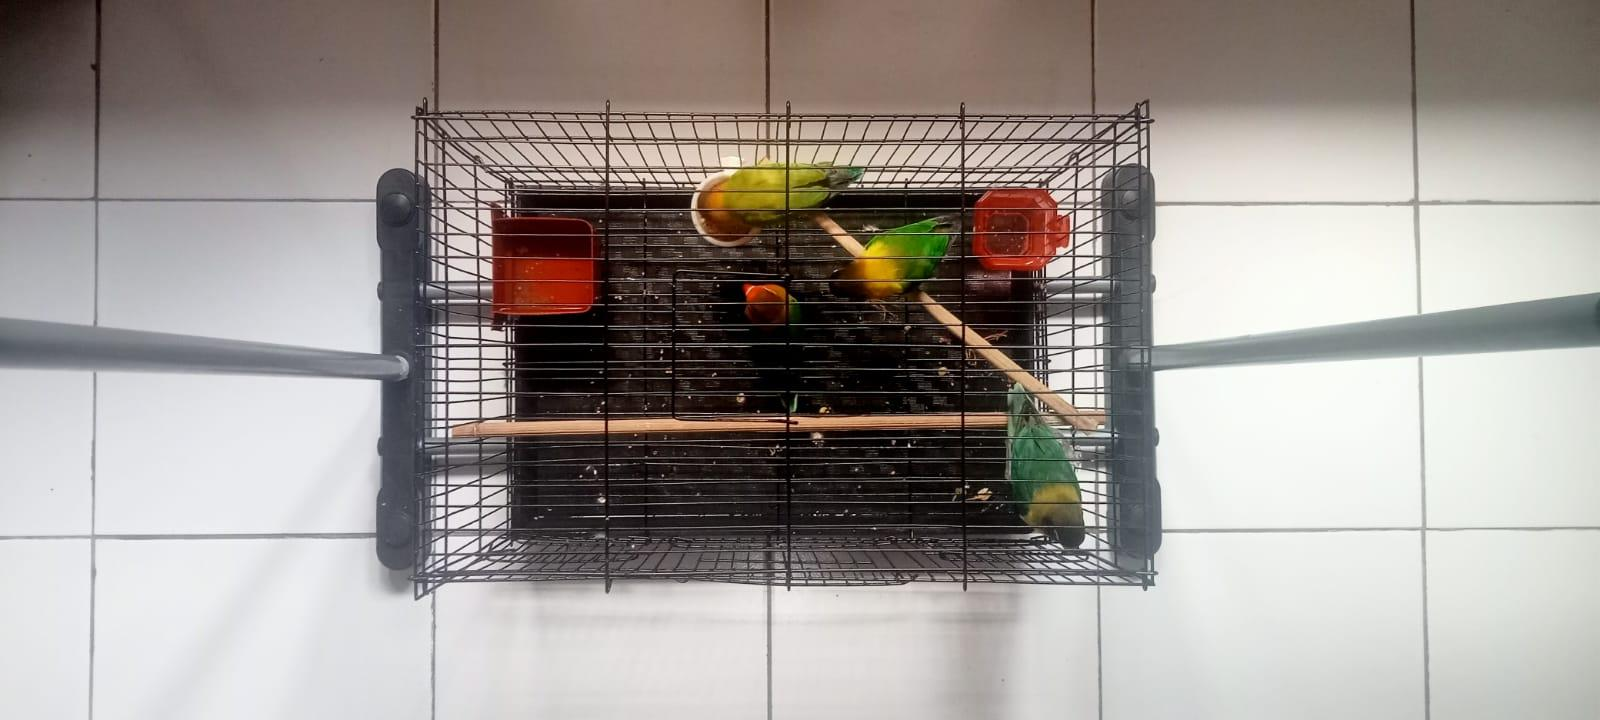LoveBird: (1009, 383, 1085, 544), (698, 164, 862, 238), (830, 216, 956, 297), (745, 284, 803, 414)
